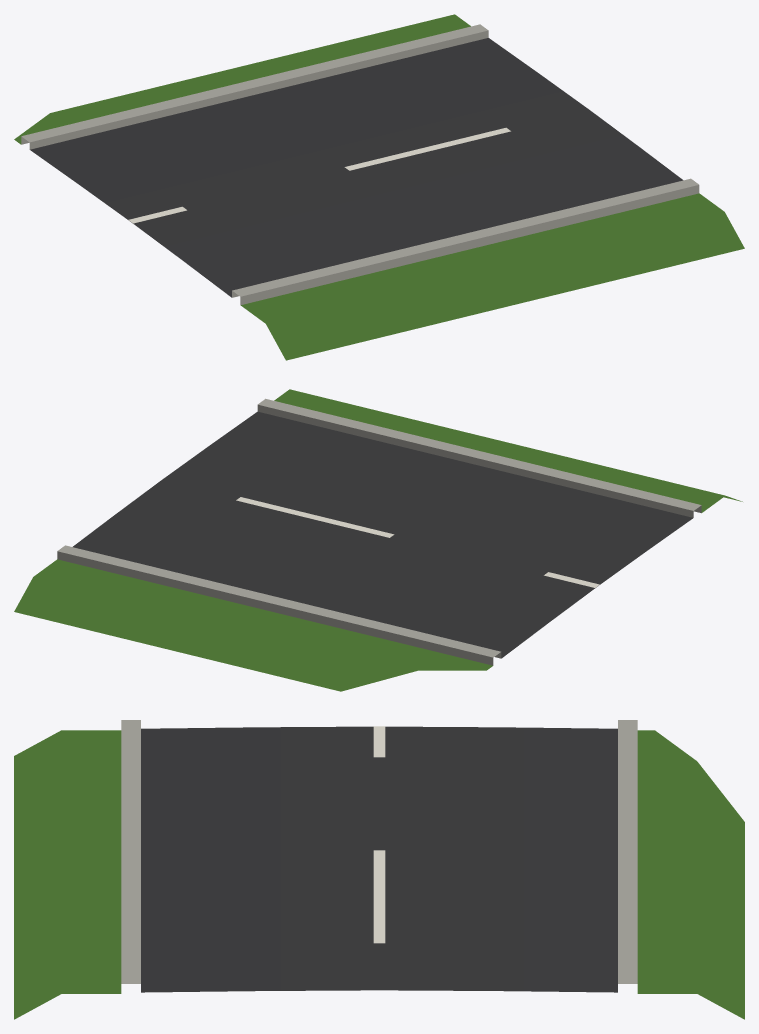
File: road_bend_60_edge_e1.glb
3 views of the same model, one above another, from view 1: azimuth 30°, elevation 25°; view 2: azimuth 150°, elevation 25°; view 3: azimuth 270°, elevation 25° (orthographic). The views are drawn at different scales.
Parts seen in each view (by area): view 1: road_bend_60_edge_e1_lod0; view 2: road_bend_60_edge_e1_lod0; view 3: road_bend_60_edge_e1_lod0.
Boxes of the visible parts, left/top/right/bottom form: road_bend_60_edge_e1_lod0: left=14, top=14, right=744, bottom=360; road_bend_60_edge_e1_lod0: left=14, top=389, right=742, bottom=691; road_bend_60_edge_e1_lod0: left=14, top=720, right=744, bottom=1019.
Size of what is drawn, in the model's own units: 7.86 by 0.5 by 9.2.
